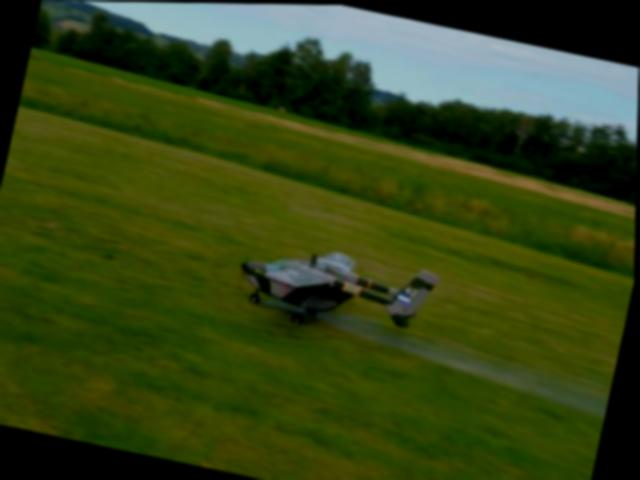uav: (227, 225, 446, 349)
